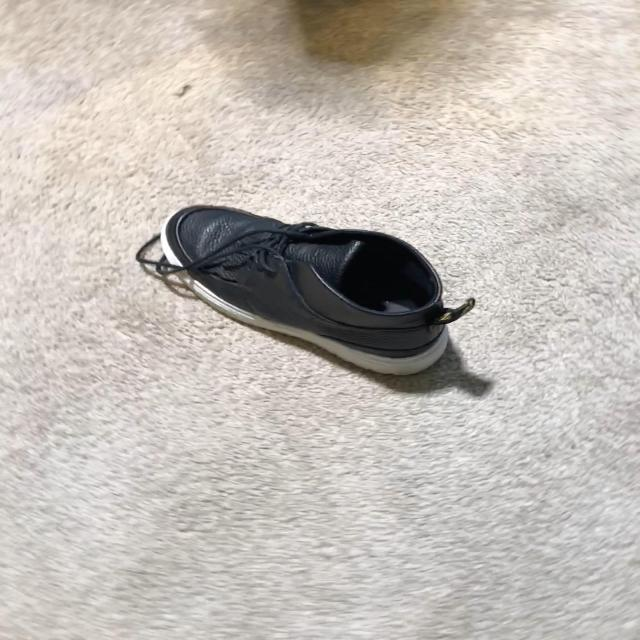shoe: (158, 205, 477, 376)
